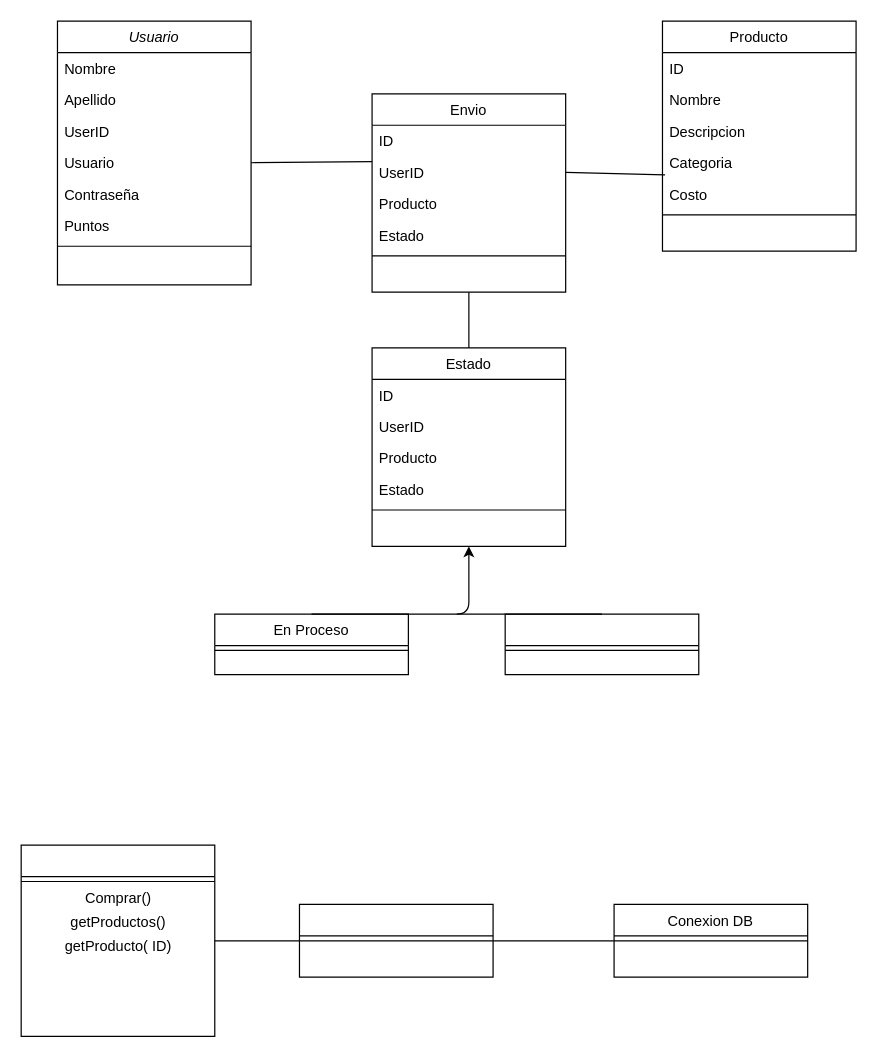
Some shapes in this 877 by 1058 pixel diagram are drawn without their labels. The shapes that lost their labels are listed below. From the top down, each one's box as (x1, y1, x2, y2) in pixels, then its label:
(504, 613, 699, 675): Entregado
(20, 844, 215, 1036): Capa de Negocio
(298, 903, 493, 977): DBM
